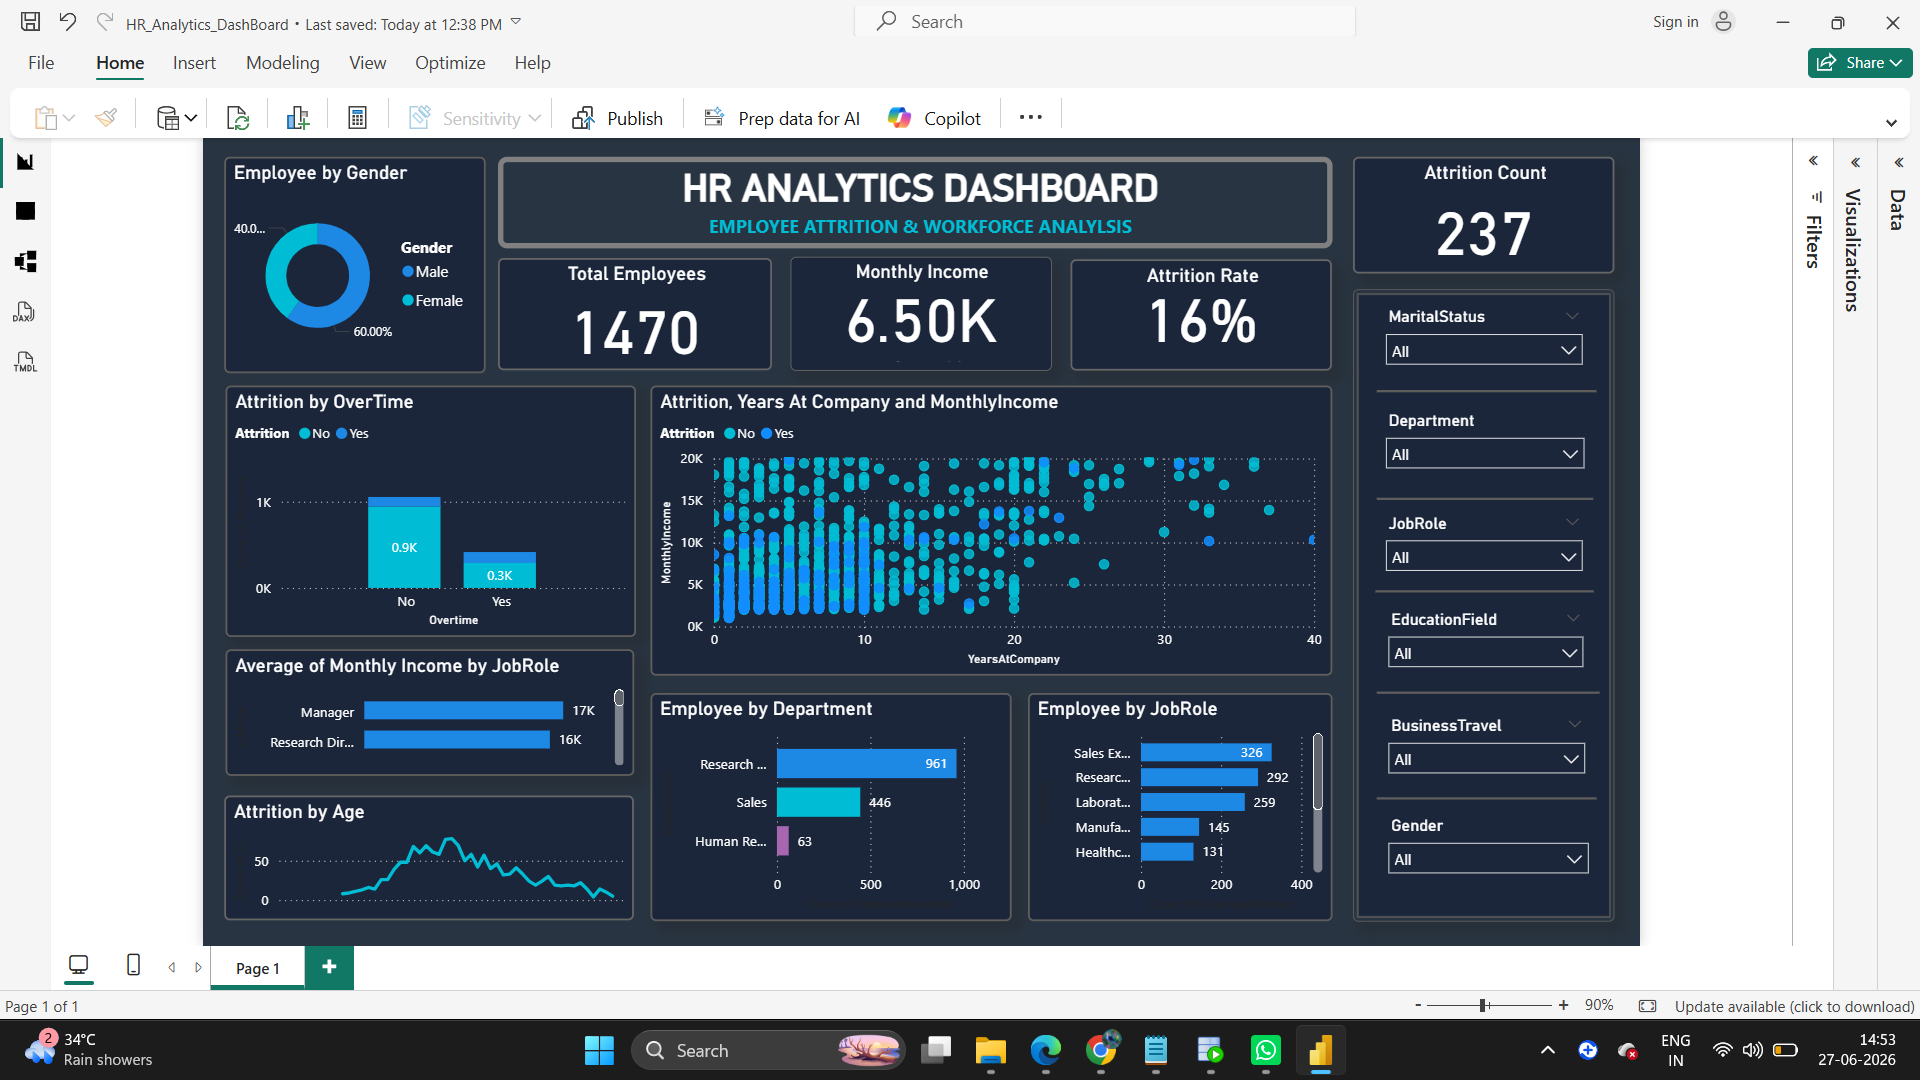

What the dashboard file says about the page in this screenshot:
{"tool":"powerbi","page":{"name":"Page 1","canvas":[1280,720],"ordinal":0},"visuals":[{"type":"shape","box":[1024.3,134.3,232.9,562.9],"z":0},{"type":"card","title":"Total Employees","fields":{"Values":["Count(HR_Analytics.EmployeeNumber)"]},"box":[262.9,107.1,244.3,100],"z":1000},{"type":"card","title":"Attrition Rate","fields":{"Values":["HR_Analytics.Attrition Rate"]},"box":[772.5,108,232.7,99.1],"z":2000},{"type":"card","title":"Monthly Income","fields":{"Values":["Avg(HR_Analytics.MonthlyIncome)"]},"box":[522.9,105.7,232.9,101.4],"z":3000},{"type":"clusteredBarChart","title":"Employee by Department","fields":{"Category":["HR_Analytics.Department"],"Y":["Count(HR_Analytics.EmployeeNumber)"]},"box":[398.6,494.3,321.4,202.9],"z":4000},{"type":"clusteredBarChart","title":"Employee by JobRole","fields":{"Category":["HR_Analytics.JobRole"],"Y":["Count(HR_Analytics.EmployeeNumber)"]},"box":[734.3,494.3,271.4,202.9],"z":5000},{"type":"columnChart","title":"Attrition by OverTime","fields":{"Category":["HR_Analytics.OverTime"],"Y":["CountNonNull(HR_Analytics.Attrition)"],"Series":["HR_Analytics.Attrition"]},"box":[20,220,365.7,224.3],"z":6000},{"type":"donutChart","title":"Employee by Gender","fields":{"Category":["HR_Analytics.Gender"],"Y":["Count(HR_Analytics.EmployeeNumber)"]},"box":[18.6,17.1,232.9,192.9],"z":7000},{"type":"barChart","title":"Average of Monthly Income by JobRole","fields":{"Category":["HR_Analytics.JobRole"],"Y":["Avg(HR_Analytics.MonthlyIncome)"]},"box":[19.8,455.8,364,112.8],"z":8000},{"type":"scatterChart","title":"Attrition, Years At Company and MonthlyIncome","fields":{"X":["HR_Analytics.YearsAtCompany"],"Y":["HR_Analytics.MonthlyIncome"],"Series":["HR_Analytics.Attrition"]},"box":[398.6,220,607.1,258.6],"z":10000},{"type":"slicer","fields":{"Values":["HR_Analytics.Department"]},"box":[1042.9,238.6,197.1,72.9],"z":11000},{"type":"slicer","fields":{"Values":["HR_Analytics.Gender"]},"box":[1045.7,598.6,198.6,80],"z":12000},{"type":"slicer","fields":{"Values":["HR_Analytics.JobRole"]},"box":[1042.9,330,195.7,74.3],"z":13000},{"type":"slicer","fields":{"Values":["HR_Analytics.EducationField"]},"box":[1045.7,415.7,194.3,78.6],"z":14000},{"type":"slicer","fields":{"Values":["HR_Analytics.BusinessTravel"]},"box":[1045.7,510,195.7,75.7],"z":15000},{"type":"textbox","title":"HR ANALYTICS DASHBOARD","box":[262.9,17.1,742.9,81.4],"z":16000},{"type":"card","title":"Attrition Count","fields":{"Values":["HR_Analytics.Attrition Count"]},"box":[1024.3,17.1,232.9,104.3],"z":17000},{"type":"slicer","fields":{"Values":["HR_Analytics.MaritalStatus"]},"box":[1042.9,145.7,195.7,82.9],"z":18000},{"type":"shape","box":[1045.7,212.9,195.7,25.7],"z":19000},{"type":"shape","box":[1045.7,302.9,192.9,37.1],"z":20000},{"type":"shape","box":[1044.3,385.7,194.3,37.1],"z":21000},{"type":"shape","box":[1045.7,568.6,195.7,38.6],"z":22000},{"type":"shape","box":[1045.7,477.1,198.6,32.9],"z":23000},{"type":"lineChart","title":"Attrition by Age","fields":{"Category":["HR_Analytics.Age"],"Y":["CountNonNull(HR_Analytics.Attrition)"]},"box":[18.9,585.5,365.1,111.3],"z":23001}]}

Visuals, with their boxes on the page's 1280x720 design canvas (x1, y1, x2, y2). These are canvas units, not pixel positions in the 1920x1080 screenshot, which may show the page scaled, cropped or inside an application window:
shape: Rect(1024, 134, 1257, 697)
"Total Employees" card: Rect(263, 107, 507, 207)
"Attrition Rate" card: Rect(772, 108, 1005, 207)
"Monthly Income" card: Rect(523, 106, 756, 207)
"Employee by Department" clusteredBarChart: Rect(399, 494, 720, 697)
"Employee by JobRole" clusteredBarChart: Rect(734, 494, 1006, 697)
"Attrition by OverTime" columnChart: Rect(20, 220, 386, 444)
"Employee by Gender" donutChart: Rect(19, 17, 252, 210)
"Average of Monthly Income by JobRole" barChart: Rect(20, 456, 384, 569)
"Attrition, Years At Company and MonthlyIncome" scatterChart: Rect(399, 220, 1006, 479)
slicer - HR_Analytics.Department: Rect(1043, 239, 1240, 312)
slicer - HR_Analytics.Gender: Rect(1046, 599, 1244, 679)
slicer - HR_Analytics.JobRole: Rect(1043, 330, 1239, 404)
slicer - HR_Analytics.EducationField: Rect(1046, 416, 1240, 494)
slicer - HR_Analytics.BusinessTravel: Rect(1046, 510, 1241, 586)
"HR ANALYTICS DASHBOARD" textbox: Rect(263, 17, 1006, 98)
"Attrition Count" card: Rect(1024, 17, 1257, 121)
slicer - HR_Analytics.MaritalStatus: Rect(1043, 146, 1239, 229)
shape: Rect(1046, 213, 1241, 239)
shape: Rect(1046, 303, 1239, 340)
shape: Rect(1044, 386, 1239, 423)
shape: Rect(1046, 569, 1241, 607)
shape: Rect(1046, 477, 1244, 510)
"Attrition by Age" lineChart: Rect(19, 586, 384, 697)
